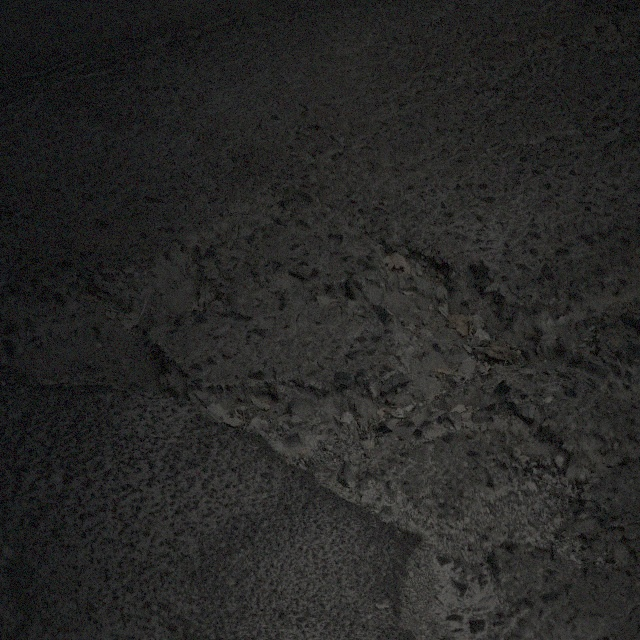pothole: (381, 418, 633, 582), (371, 233, 570, 396), (202, 364, 373, 518), (12, 278, 192, 411), (140, 187, 289, 330)
